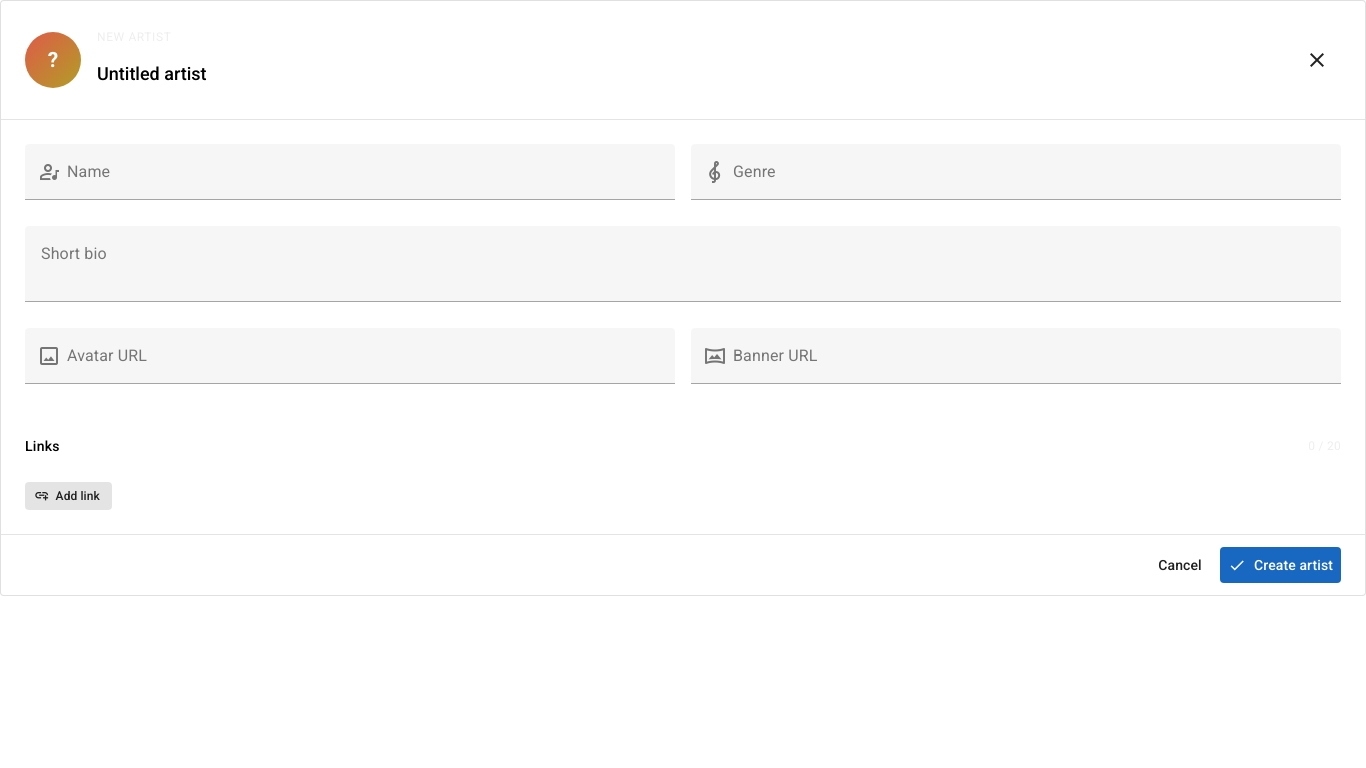
Test: ArtistCreatePanel › links › requires a URL for an added link
The image size is (1366, 768).
Type "Nova" into the field labelled "Name" at (368, 172), box [61,144,675,200]
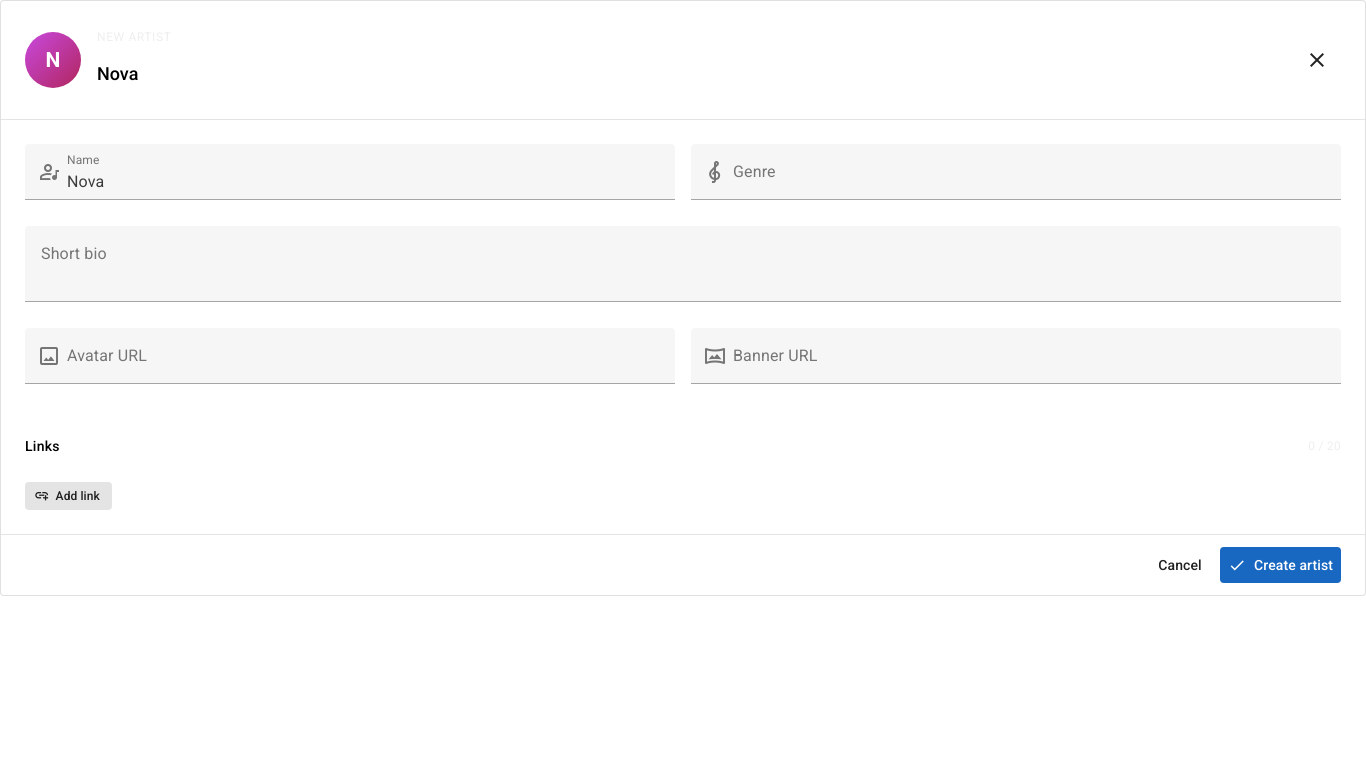
Click the button "Add link" at (68, 496), box [25,482,112,510]
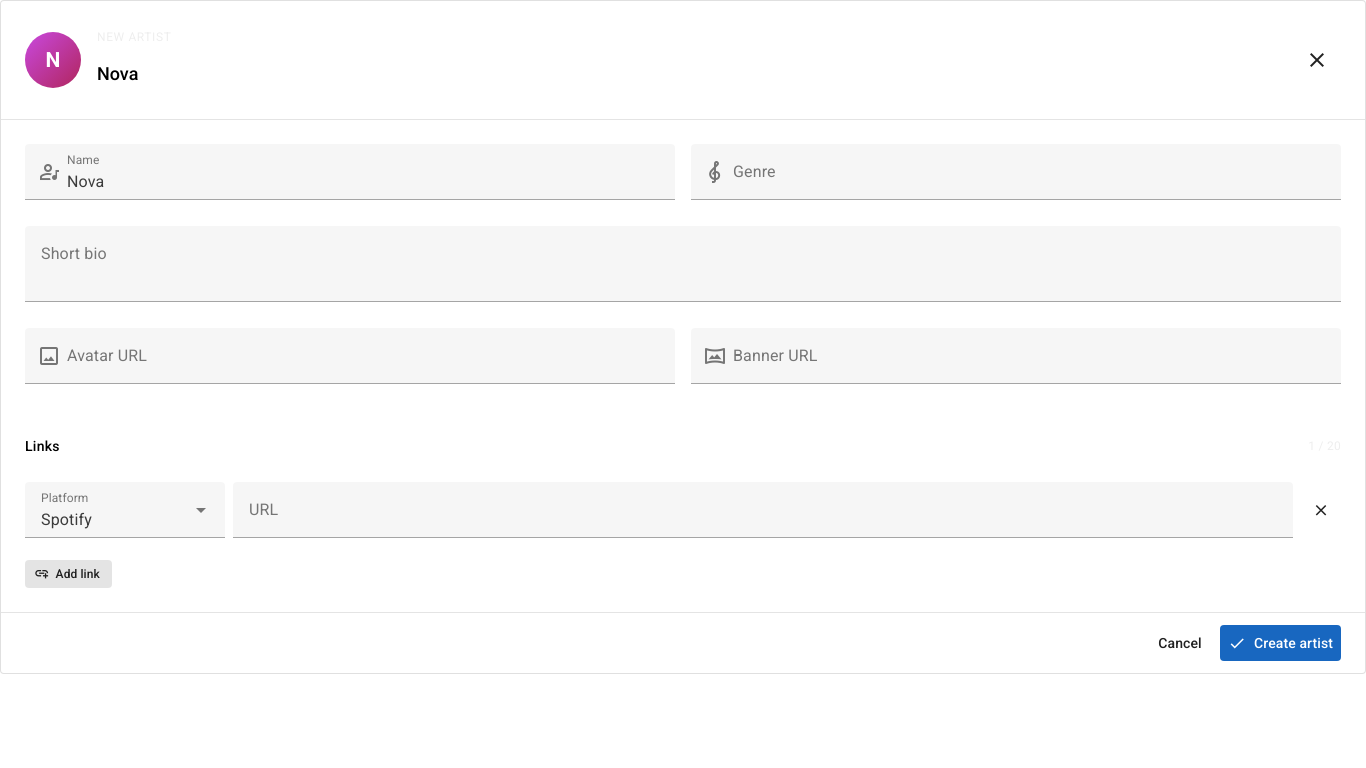
Submit the form
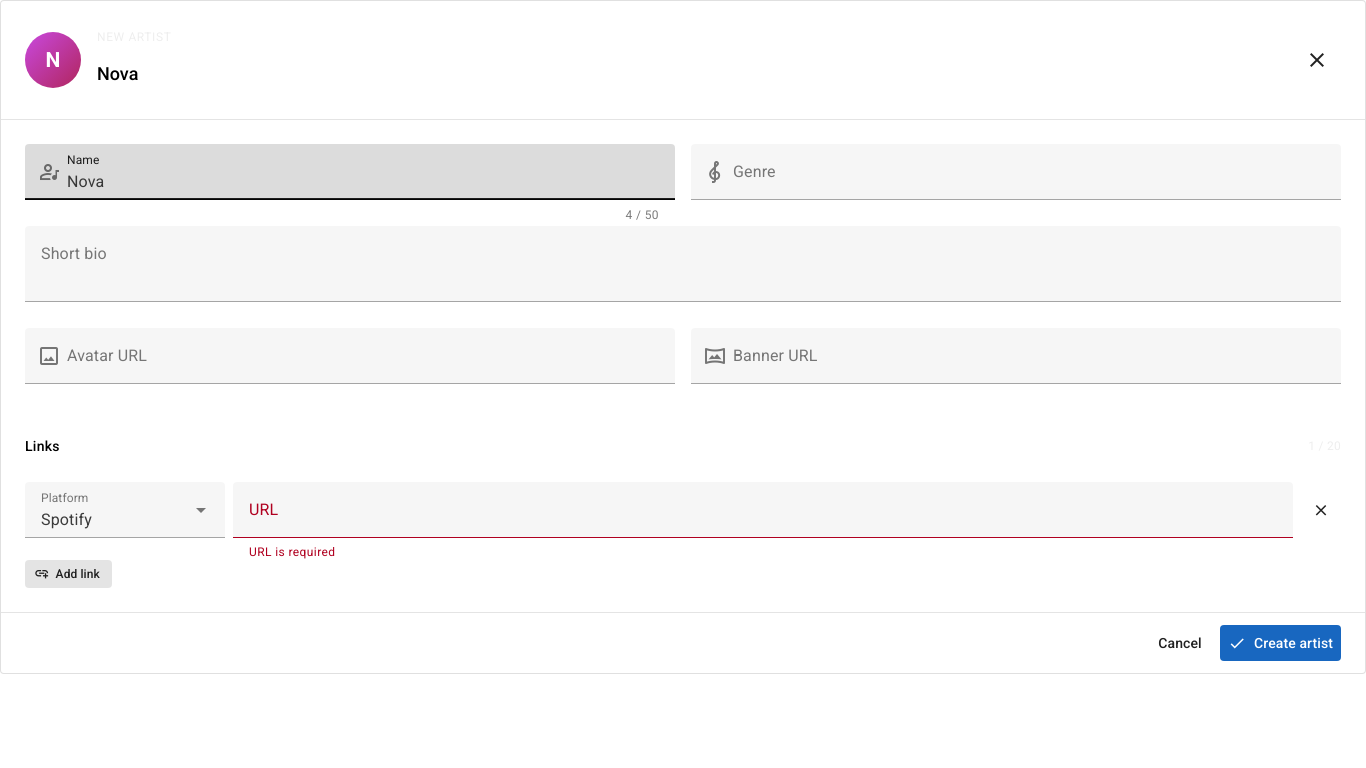
Expected: the text "URL is required" is shown, [249,545,336,559]
